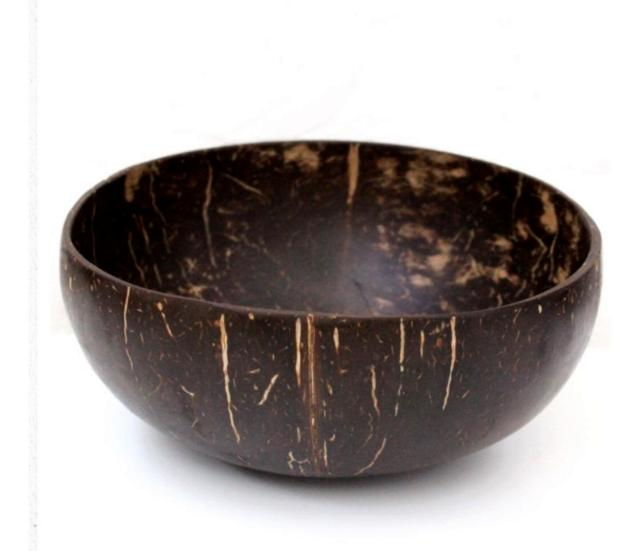Bowl: (62, 142, 600, 476)
